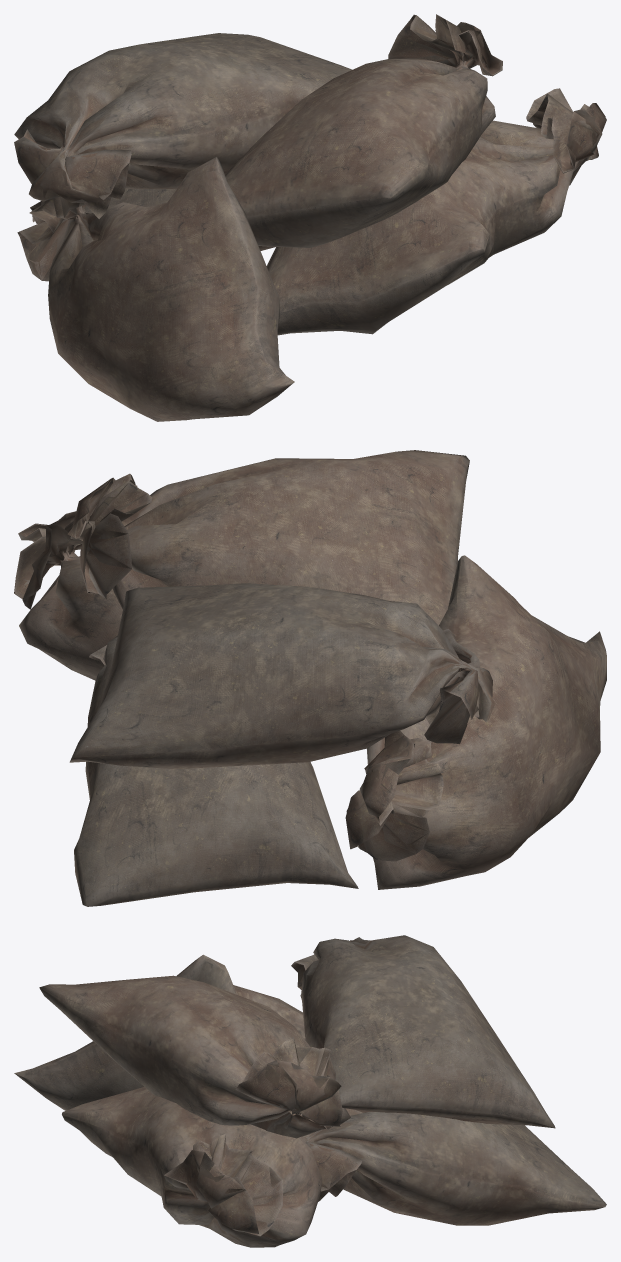
File: SM_Sandbag_Pile_01.fbx
The picture shows the model from 3 angles, top to bottom: view 1: azimuth 30°, elevation 25°; view 2: azimuth 150°, elevation 25°; view 3: azimuth 270°, elevation 25°; orthographic projection. The views are drawn at different scales.
Parts seen in each view (by area): view 1: SM_Sandbag_Pile_01_LOD0; view 2: SM_Sandbag_Pile_01_LOD0; view 3: SM_Sandbag_Pile_01_LOD0.
Boxes of the visible parts, box(x1,y1,x2,y2) form: SM_Sandbag_Pile_01_LOD0: box(14, 14, 606, 421); SM_Sandbag_Pile_01_LOD0: box(14, 450, 606, 906); SM_Sandbag_Pile_01_LOD0: box(14, 935, 606, 1247).
Size of the model in its own units: 174 by 192 by 96.16.
1 material, 1 textured.
